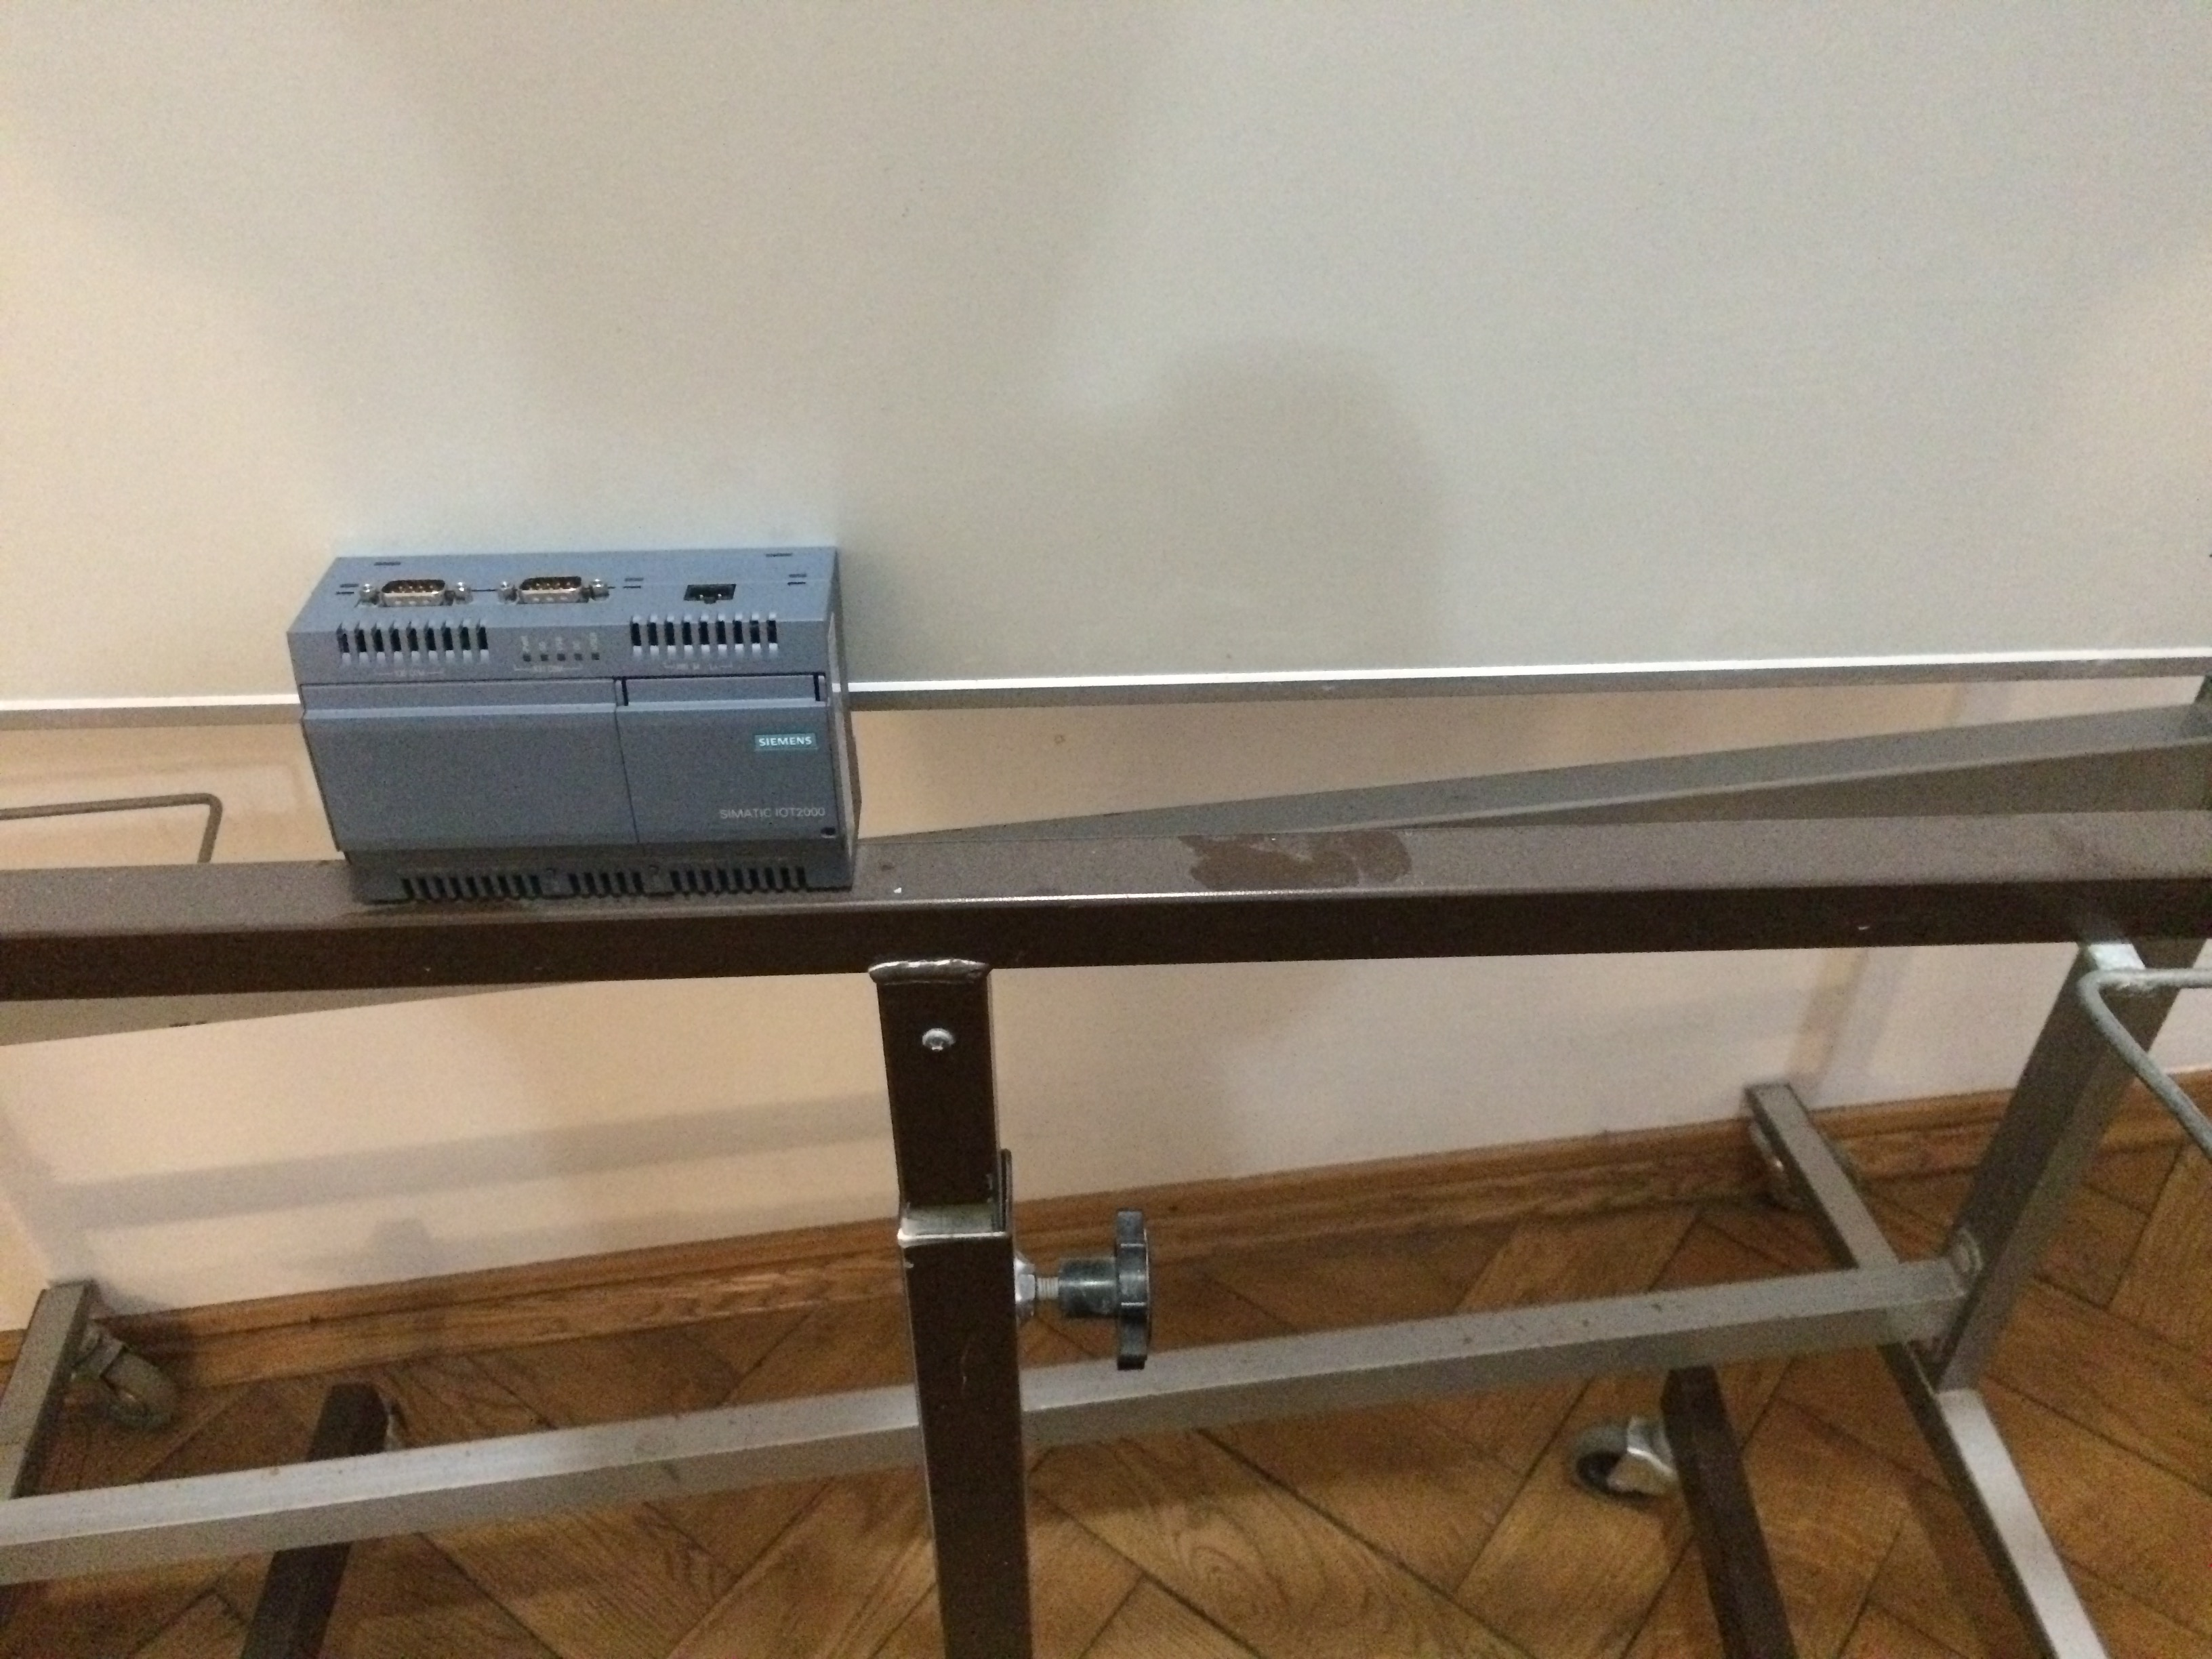iot2000: (282, 540, 867, 910)
